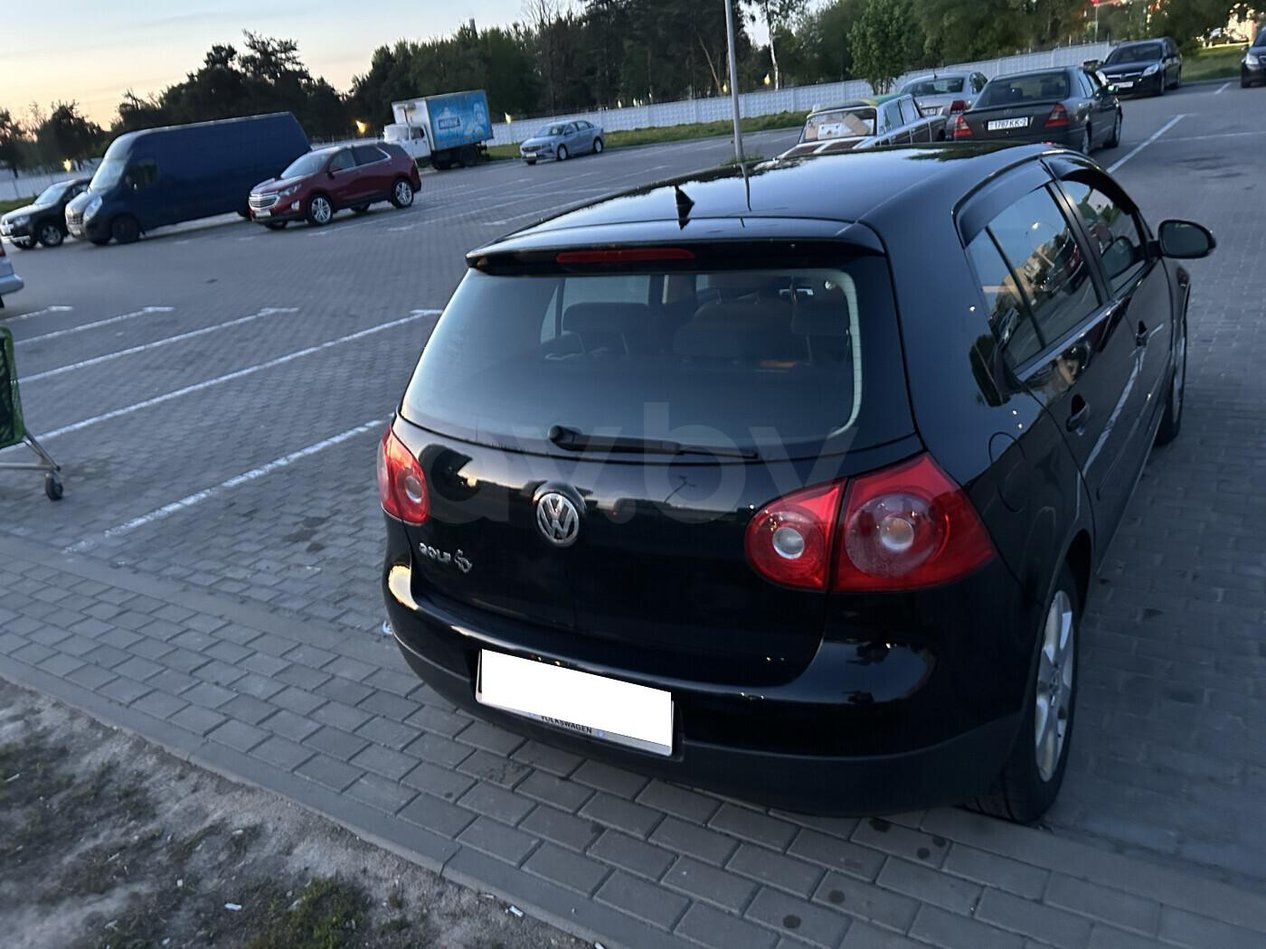Golf_2003-2009: (369, 149, 1203, 795)
